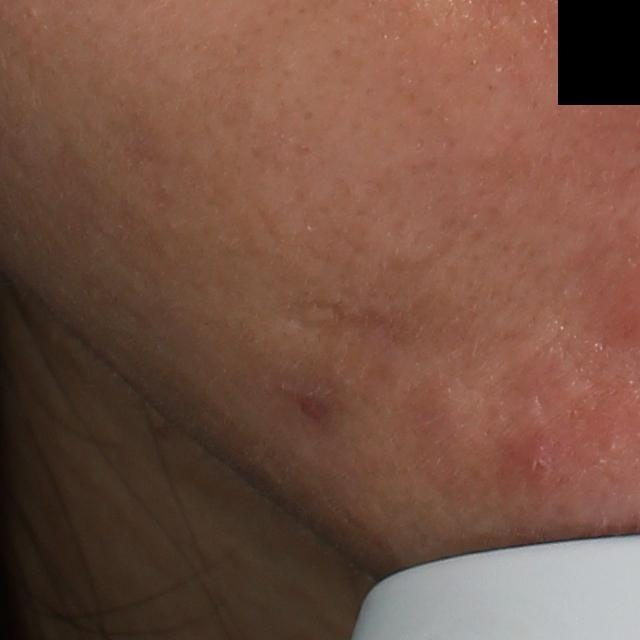papule: (507, 426, 560, 483)
